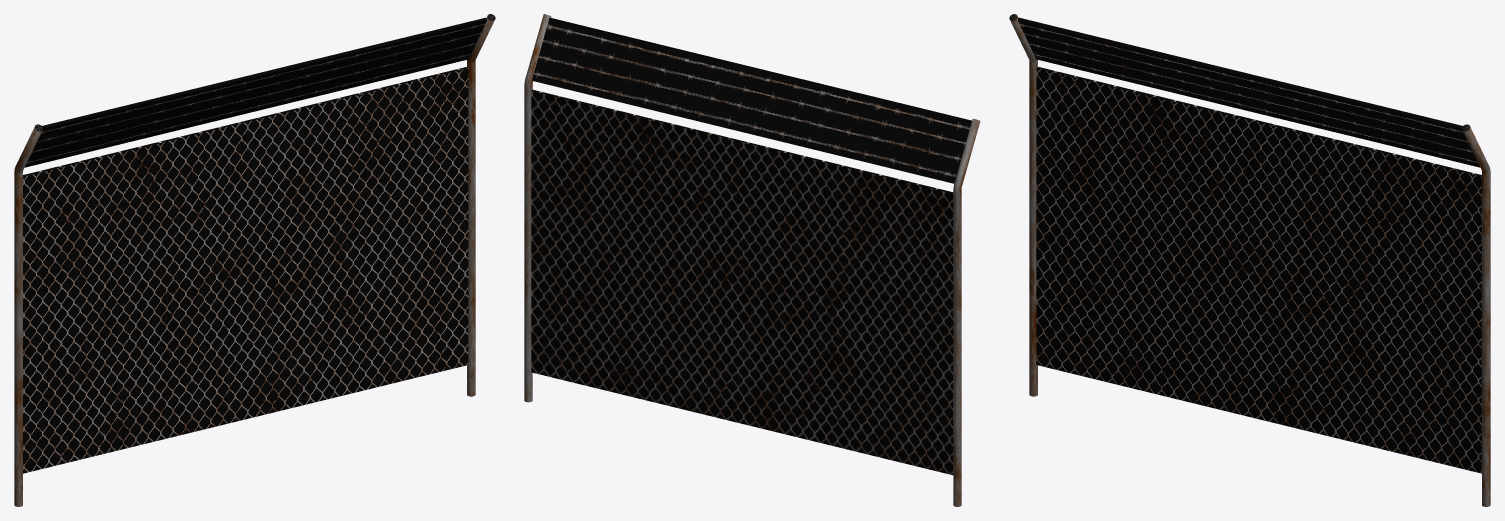
Rendered from FenceType1.fbx.
3 renders of one model, left to right at view 1: azimuth 30°, elevation 25°; view 2: azimuth 150°, elevation 25°; view 3: azimuth 330°, elevation 25°, orthographic. The views are drawn at different scales.
Parts seen in each view (by area): view 1: Object_4.008; view 2: Object_4.008; view 3: Object_4.008.
Boxes of the visible parts, x1=… form: Object_4.008: x1=14, y1=14, x2=495, y2=506; Object_4.008: x1=524, y1=14, x2=980, y2=506; Object_4.008: x1=1009, y1=14, x2=1490, y2=506.
Size of the model in its own units: 8.43 by 6.9 by 0.7653.
